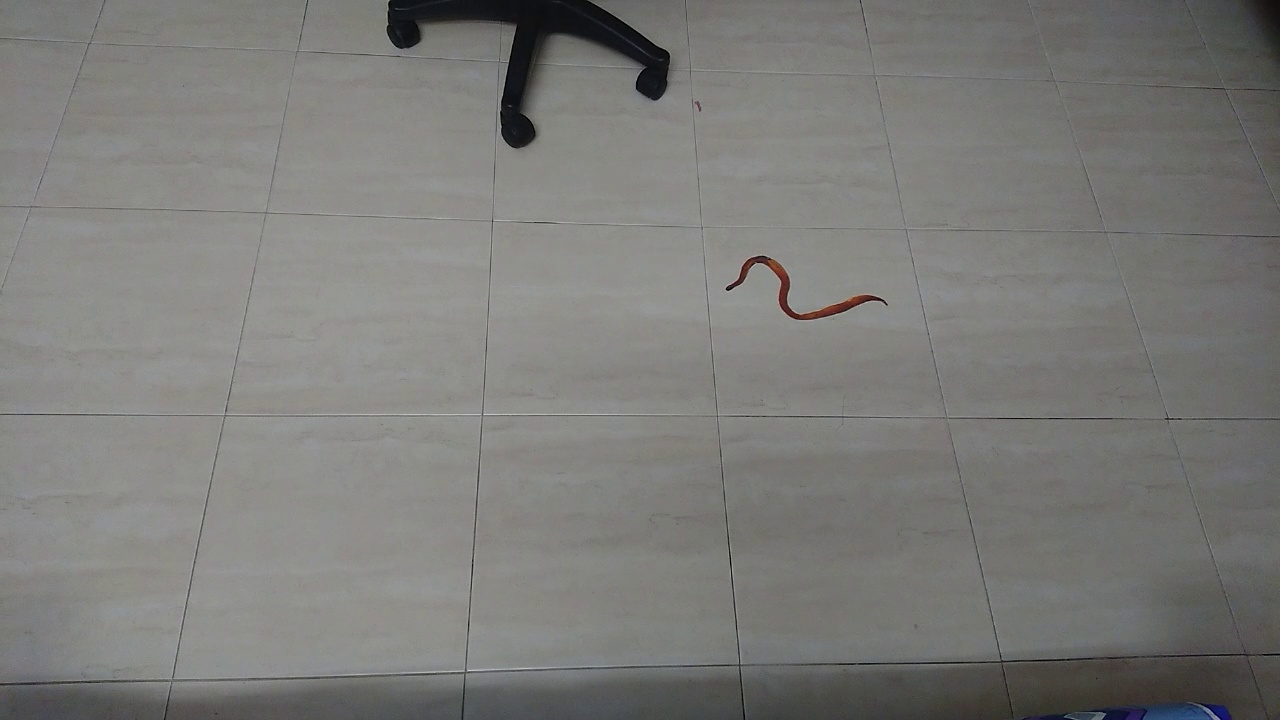snake: (699, 233, 901, 335)
